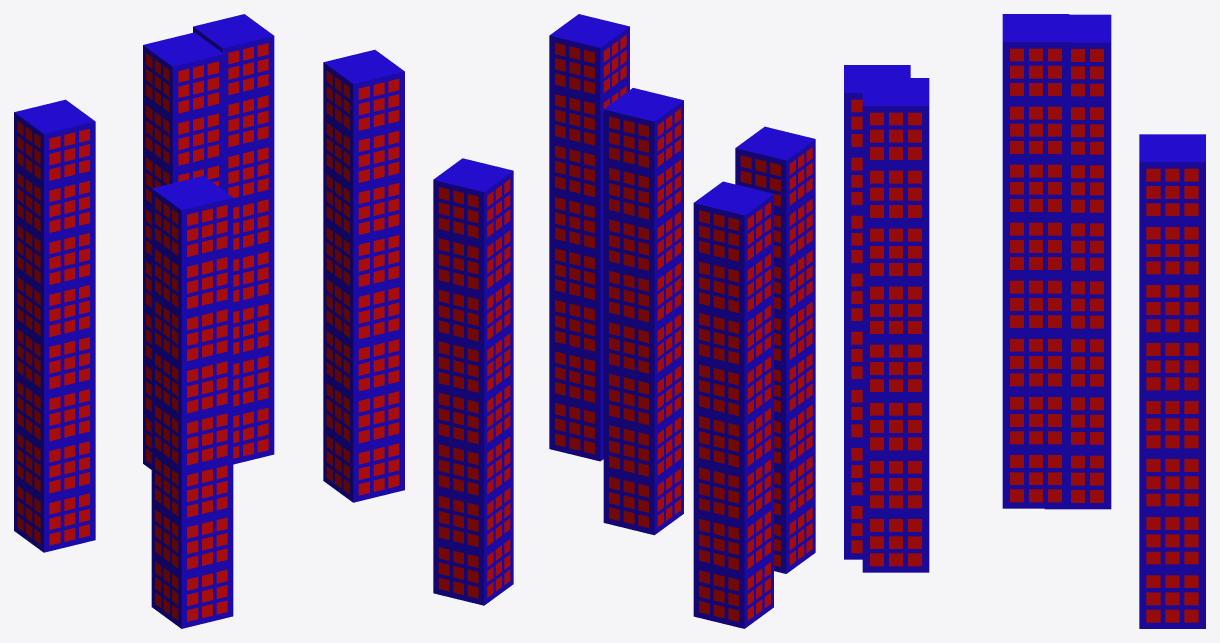
The model's file is BuildingTemplate5.fbx.
3 views of the same model, side by side, from view 1: azimuth 30°, elevation 25°; view 2: azimuth 150°, elevation 25°; view 3: azimuth 270°, elevation 25° (orthographic). The views are drawn at different scales.
Parts seen in each view (by area): view 1: StandardCubeTall; view 2: StandardCubeTall; view 3: StandardCubeTall.
Part boxes in pixels (bbox=[...]): StandardCubeTall: bbox=[14, 14, 404, 628]; StandardCubeTall: bbox=[433, 14, 815, 628]; StandardCubeTall: bbox=[844, 14, 1205, 628].
Size of the model in its own units: 12967 by 21954 by 13047.
